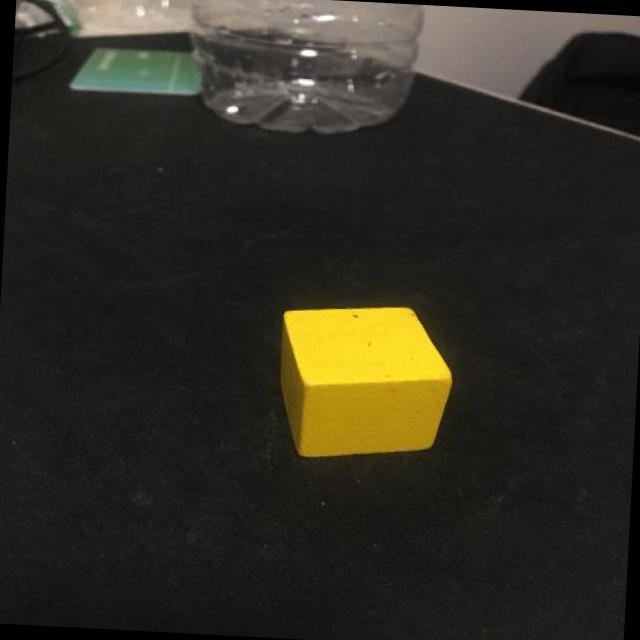yellow: (276, 302, 456, 462)
